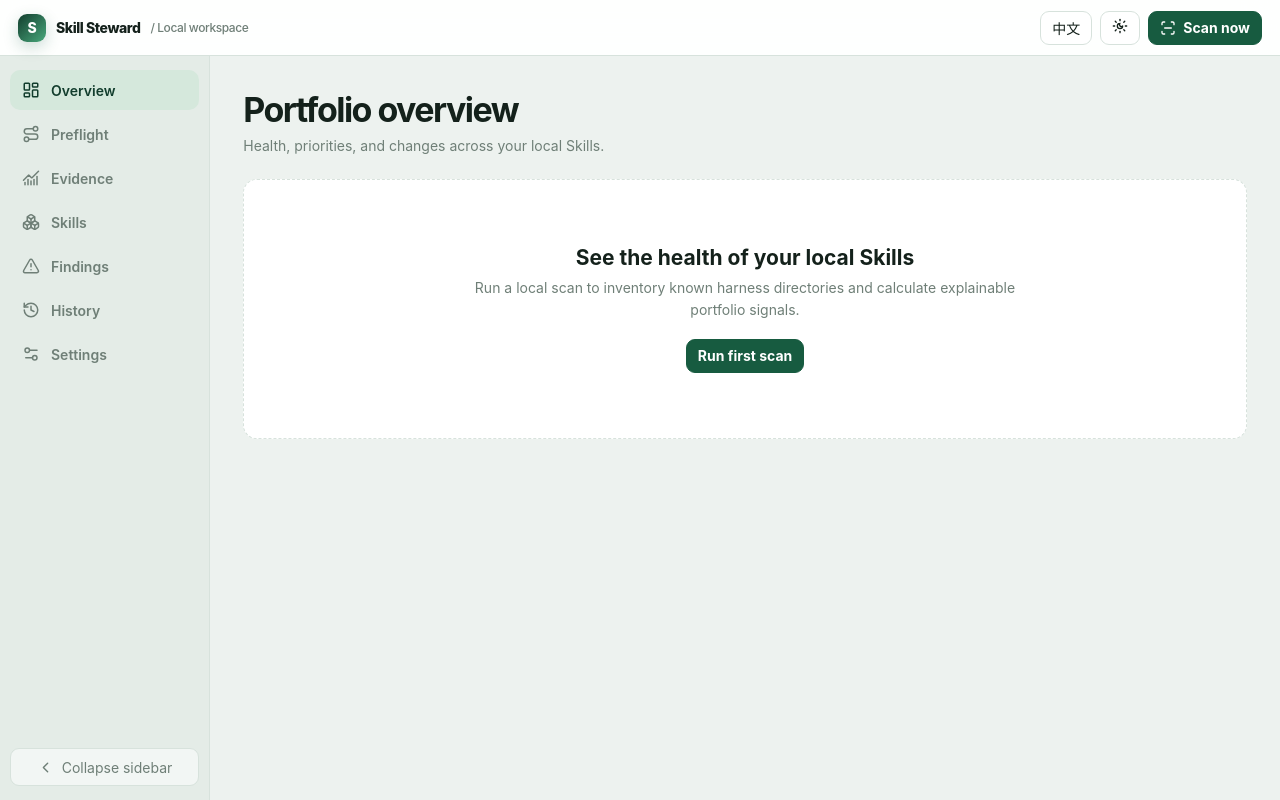
Test: dashboard application shell › keeps first-run guidance visible when the Overview scan fails
Step 1. Click the button "Run first scan" → (745, 356), box [686, 339, 804, 373]
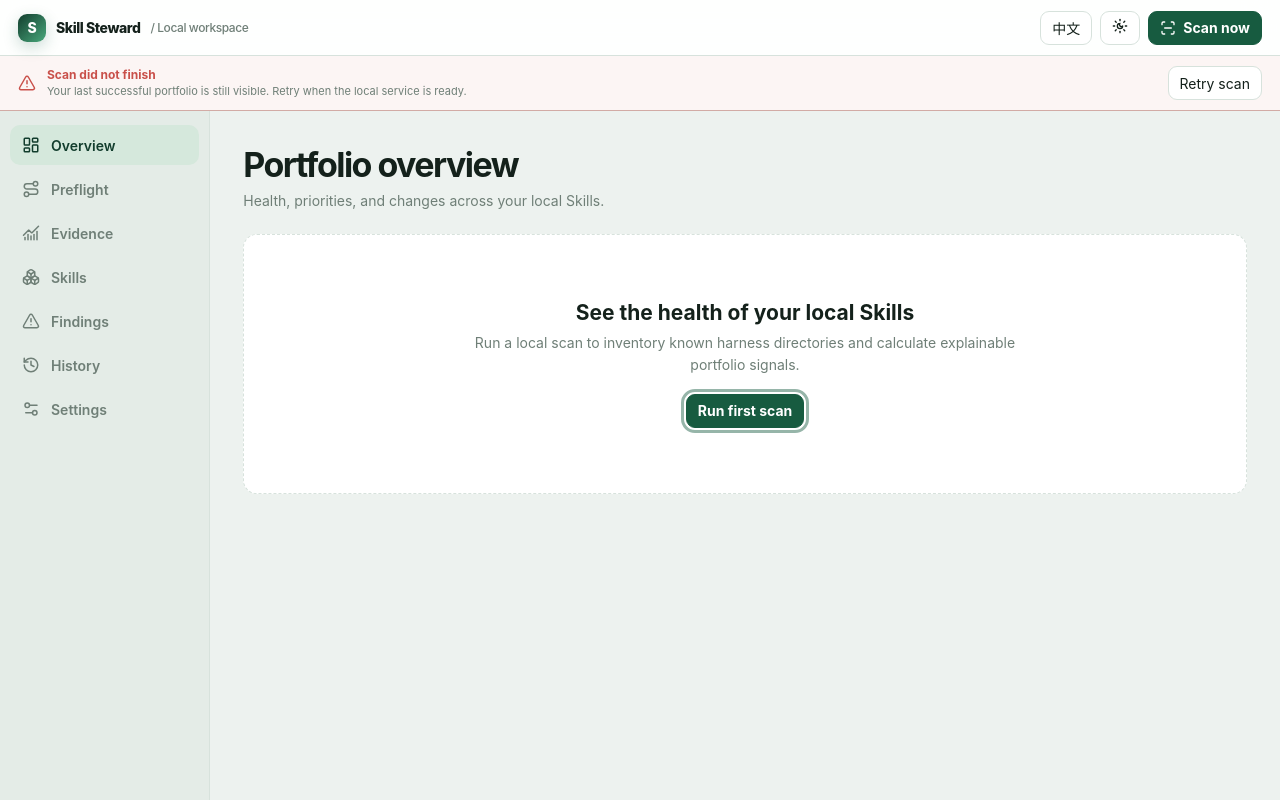
expect the heading "See the health of your local Skills" is shown: met, box [576, 300, 914, 325]
expect the message shows "Scan did not finish": met, box [47, 67, 156, 82]
